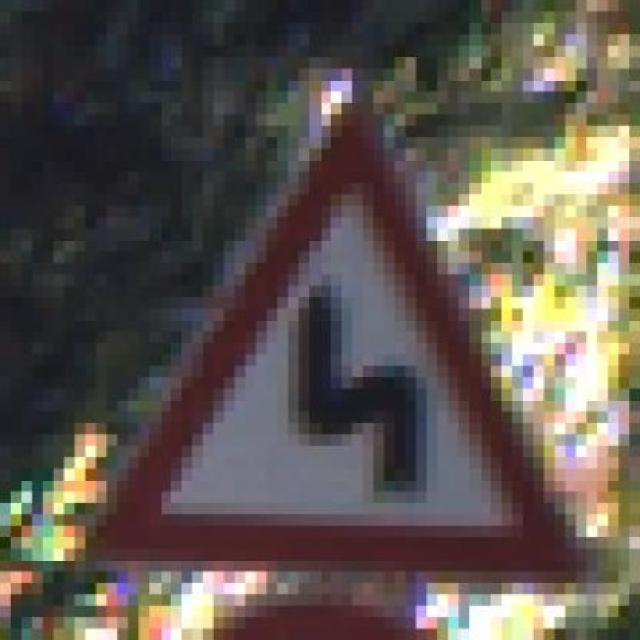Left Zig Zag Traffic: (86, 68, 608, 594)
